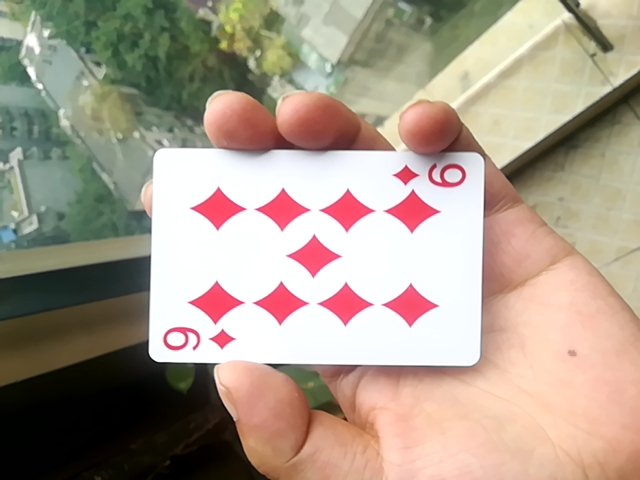fk 9: (138, 144, 493, 369)
